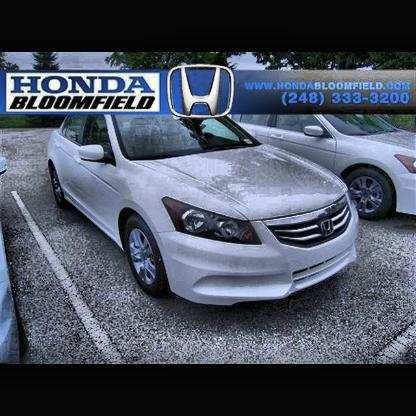Honda Accord Sedan 2012: (49, 98, 360, 308)
